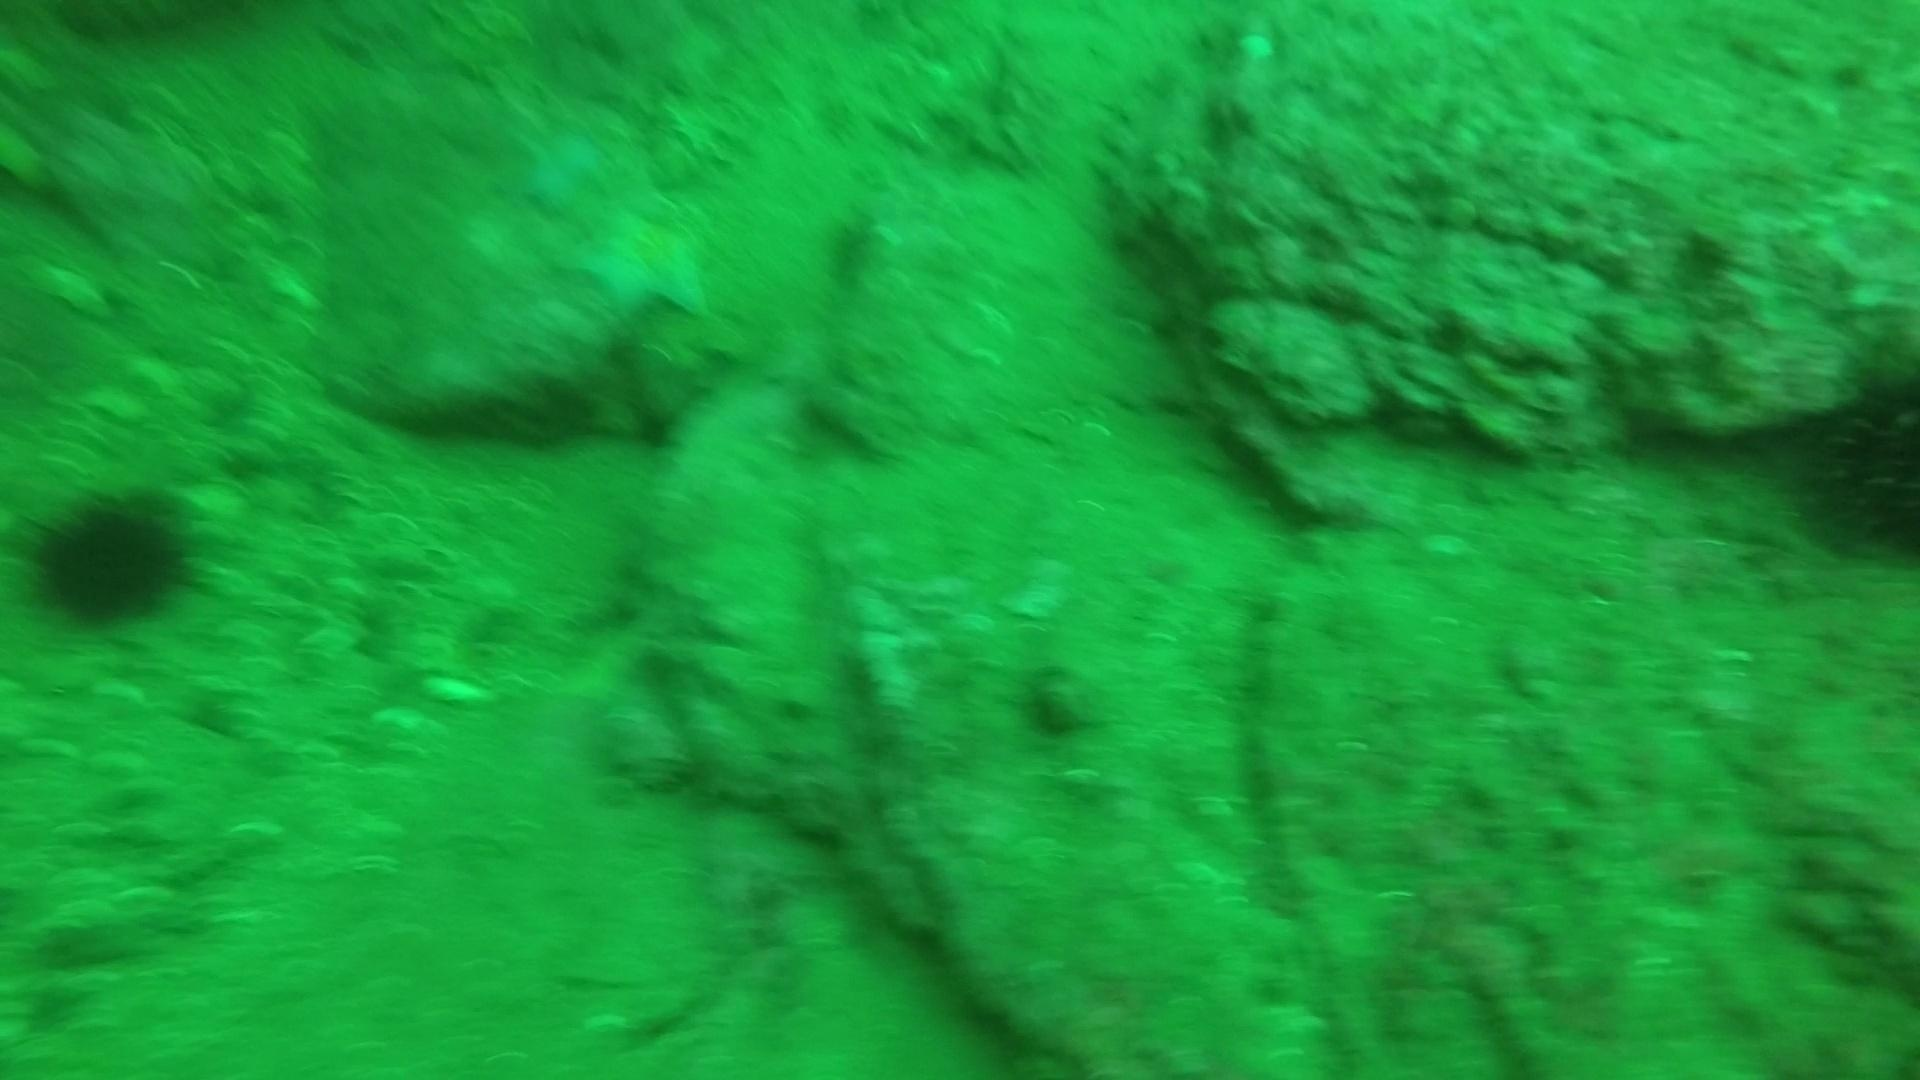echinus: (16, 483, 204, 634), (1796, 352, 1920, 570)
starfish: (566, 199, 720, 324)
